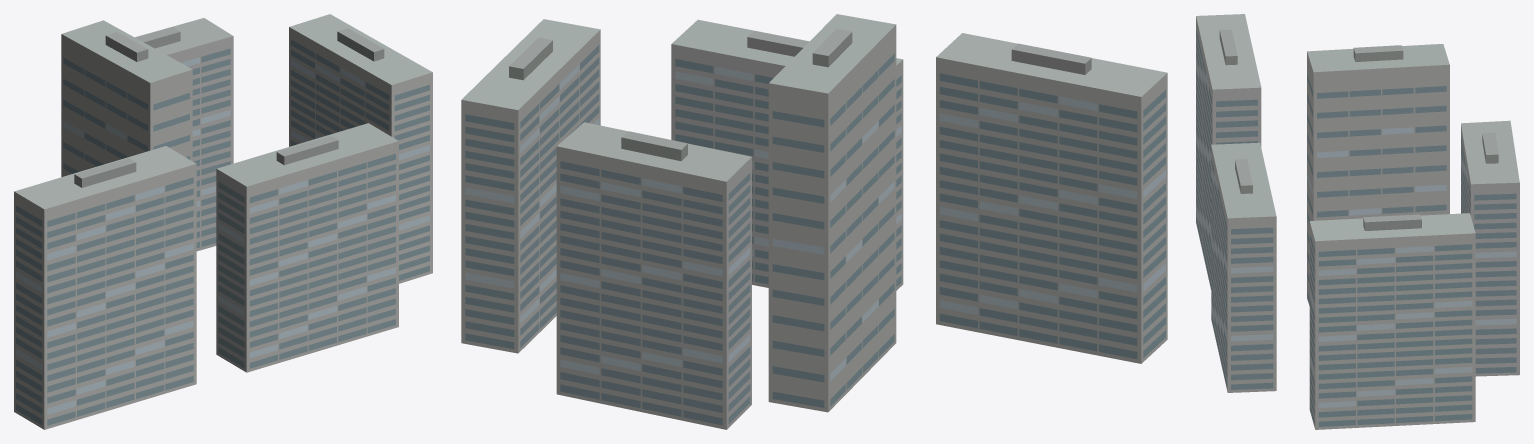
The model's file is apt-a15179701.glb.
The picture shows the model from 3 angles, left to right: view 1: azimuth 30°, elevation 25°; view 2: azimuth 150°, elevation 25°; view 3: azimuth 270°, elevation 25°; orthographic projection. The views are drawn at different scales.
Parts seen in each view (by area): view 1: apt-a15179701; view 2: apt-a15179701; view 3: apt-a15179701.
Part boxes in pixels (x1,y1,x2,y2): apt-a15179701: [14, 14, 432, 429]; apt-a15179701: [461, 14, 1167, 429]; apt-a15179701: [1196, 14, 1519, 429].
Bounding box in the file's own units: 123 × 70 × 80.23.
